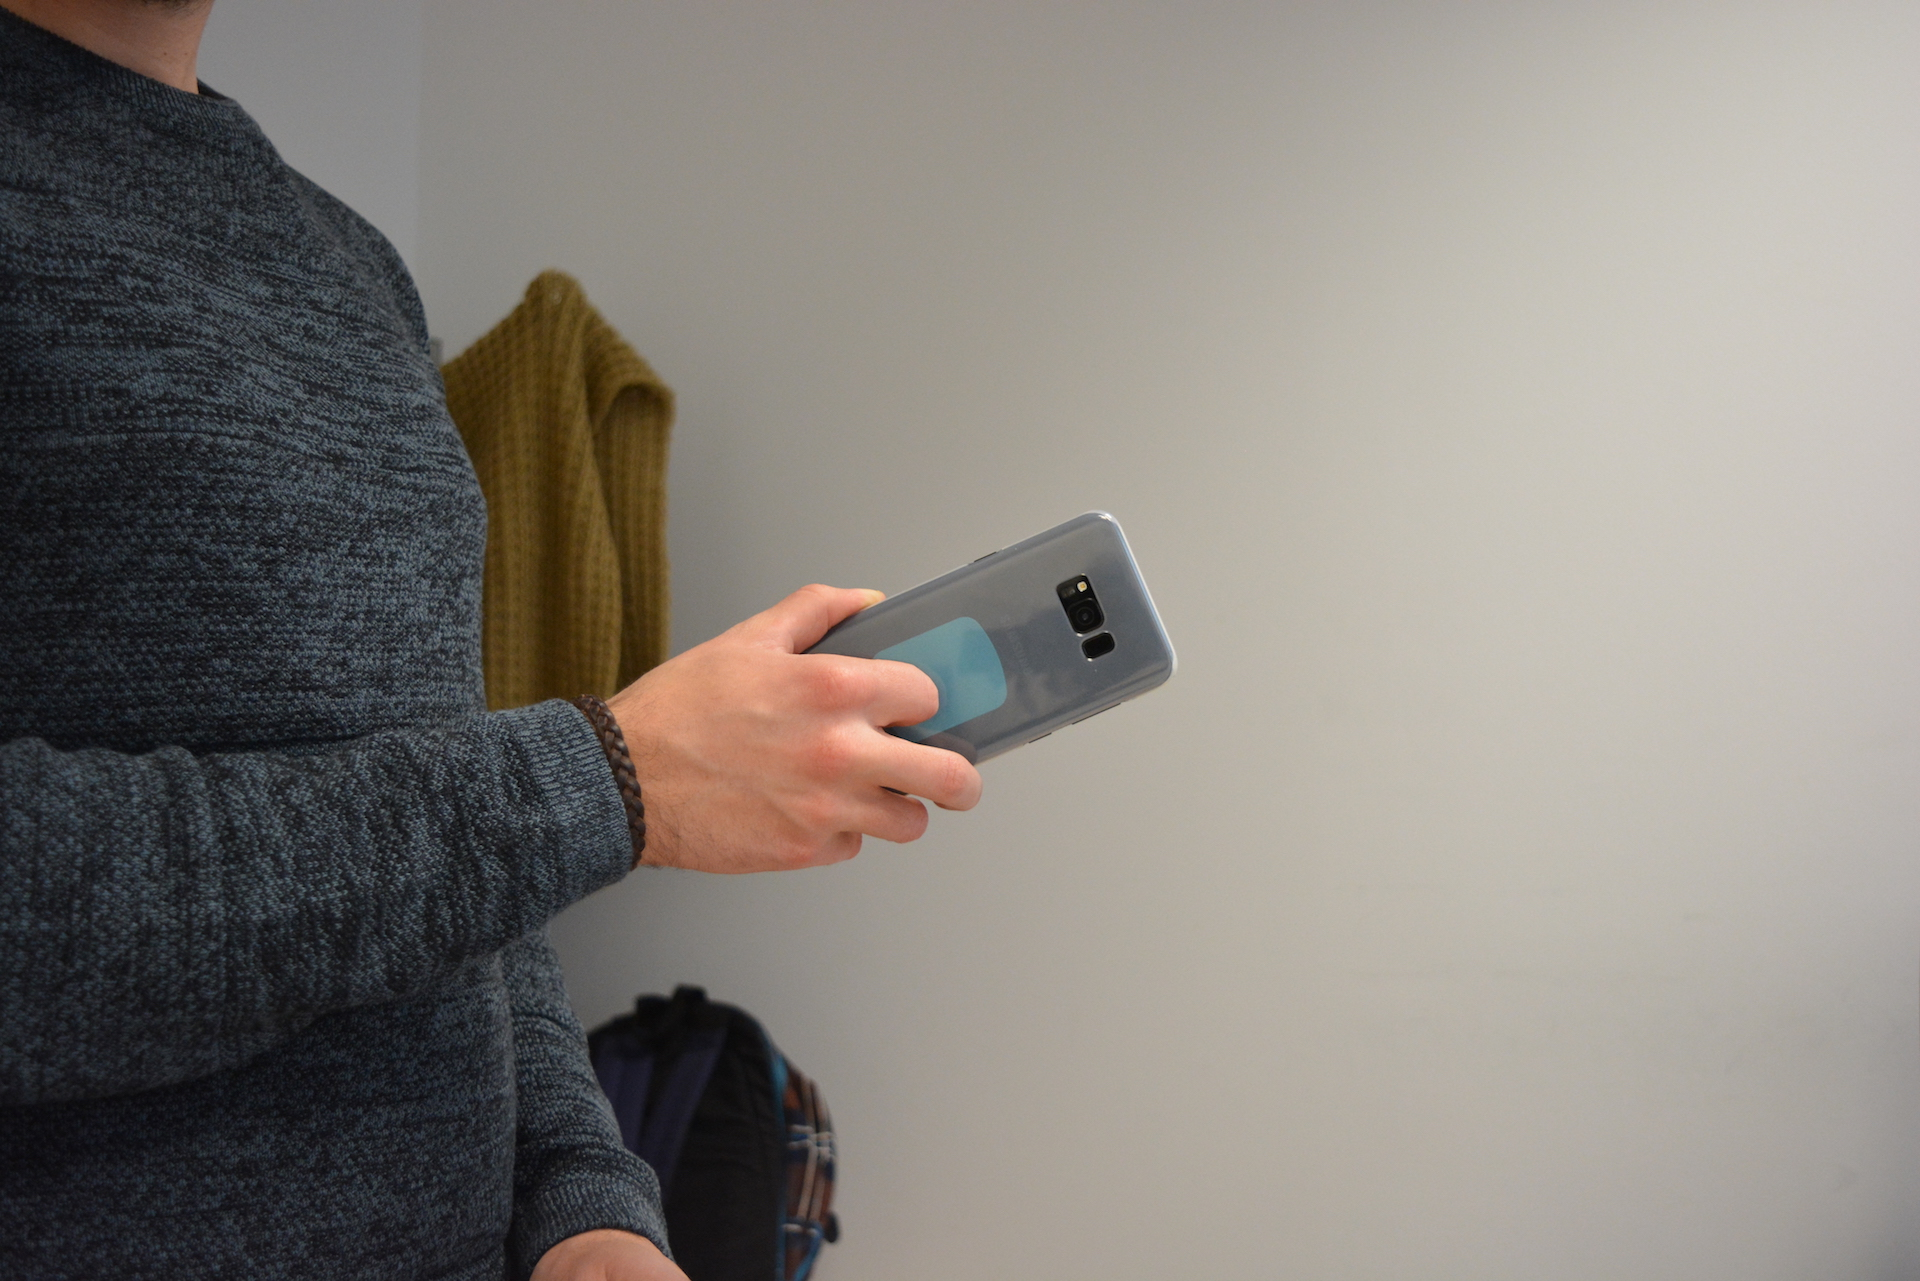smartphone: (792, 509, 1179, 801)
